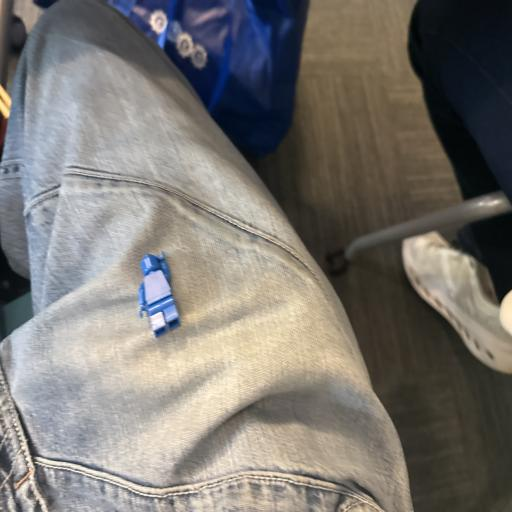Minifig: (138, 251, 180, 337)
